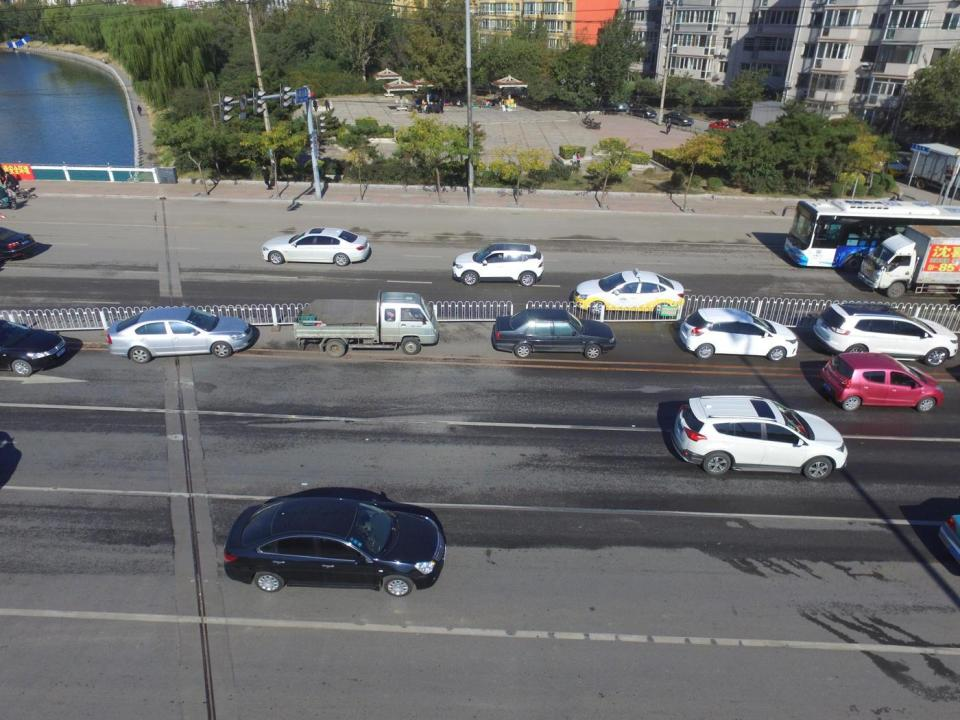bus: (782, 188, 958, 274)
car: (224, 493, 447, 599), (670, 396, 850, 476), (814, 301, 960, 365), (102, 309, 256, 363), (486, 308, 619, 362), (824, 354, 944, 413), (678, 308, 803, 362), (572, 270, 686, 320), (0, 316, 70, 377), (451, 242, 547, 284), (263, 228, 373, 264), (876, 150, 910, 179), (708, 117, 743, 139), (663, 108, 695, 127), (603, 96, 629, 115), (628, 104, 657, 120), (610, 90, 632, 108)
truck: (294, 290, 440, 356), (856, 224, 960, 300)
